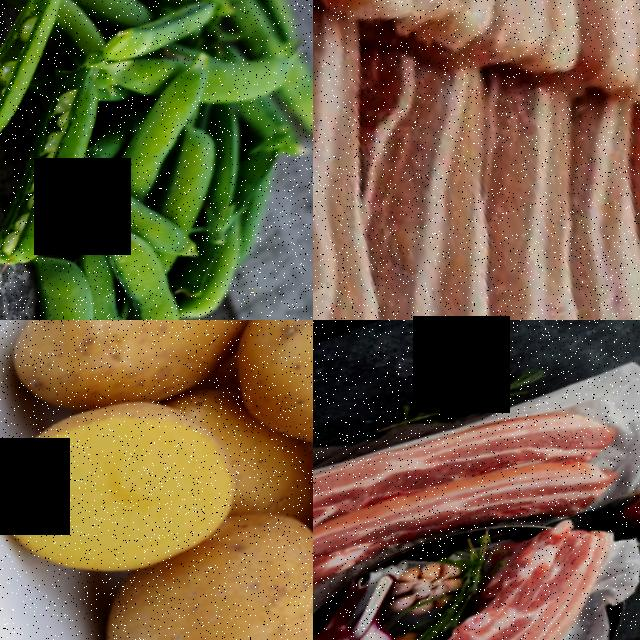pork belly: (313, 34, 640, 320), (313, 369, 627, 612), (313, 0, 485, 320), (428, 0, 640, 124), (530, 83, 640, 320), (476, 516, 630, 640)
potato: (0, 367, 266, 607), (0, 320, 313, 435), (73, 504, 313, 640)
